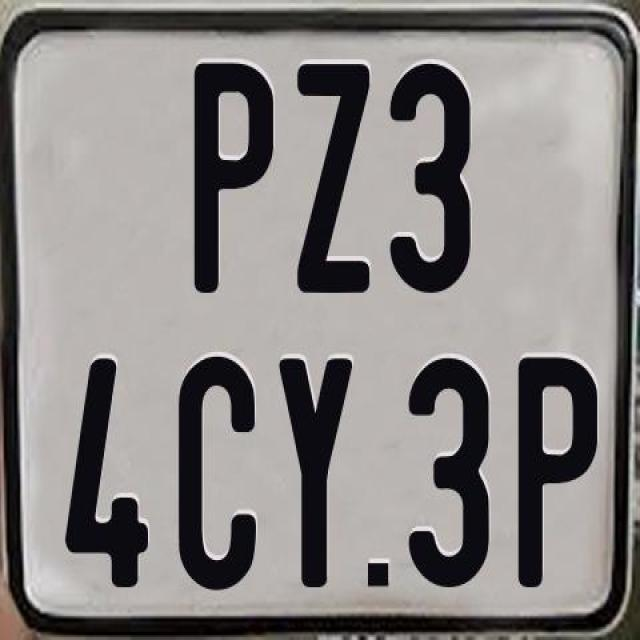3: (389, 63, 479, 294), (407, 354, 492, 588)
4: (63, 357, 154, 587)
C: (175, 356, 256, 590)
P: (516, 357, 596, 592), (190, 58, 270, 292)
Y: (274, 356, 356, 594)
Z: (297, 59, 373, 293)
